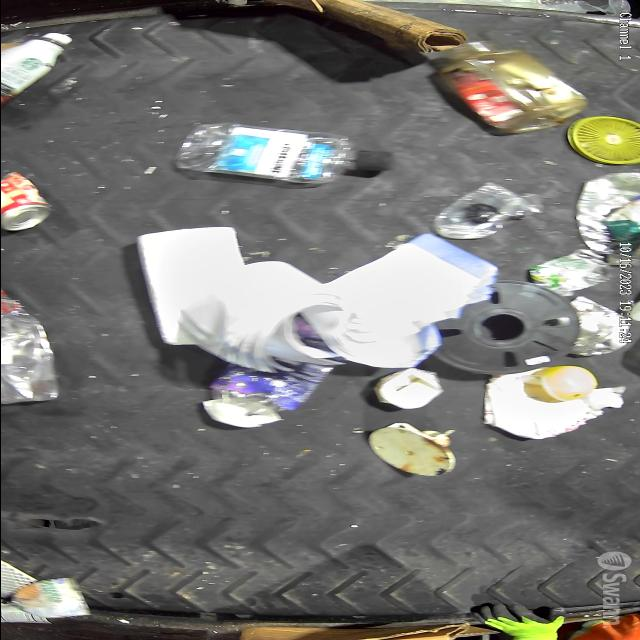can: (552, 296, 632, 356), (526, 250, 614, 296), (0, 171, 56, 234), (12, 577, 88, 618), (0, 603, 58, 626)
milk_jug: (176, 260, 347, 374)
non_white_jug: (432, 39, 592, 134)
plastic_bottle: (174, 122, 400, 184), (0, 286, 62, 405), (428, 183, 546, 241)
